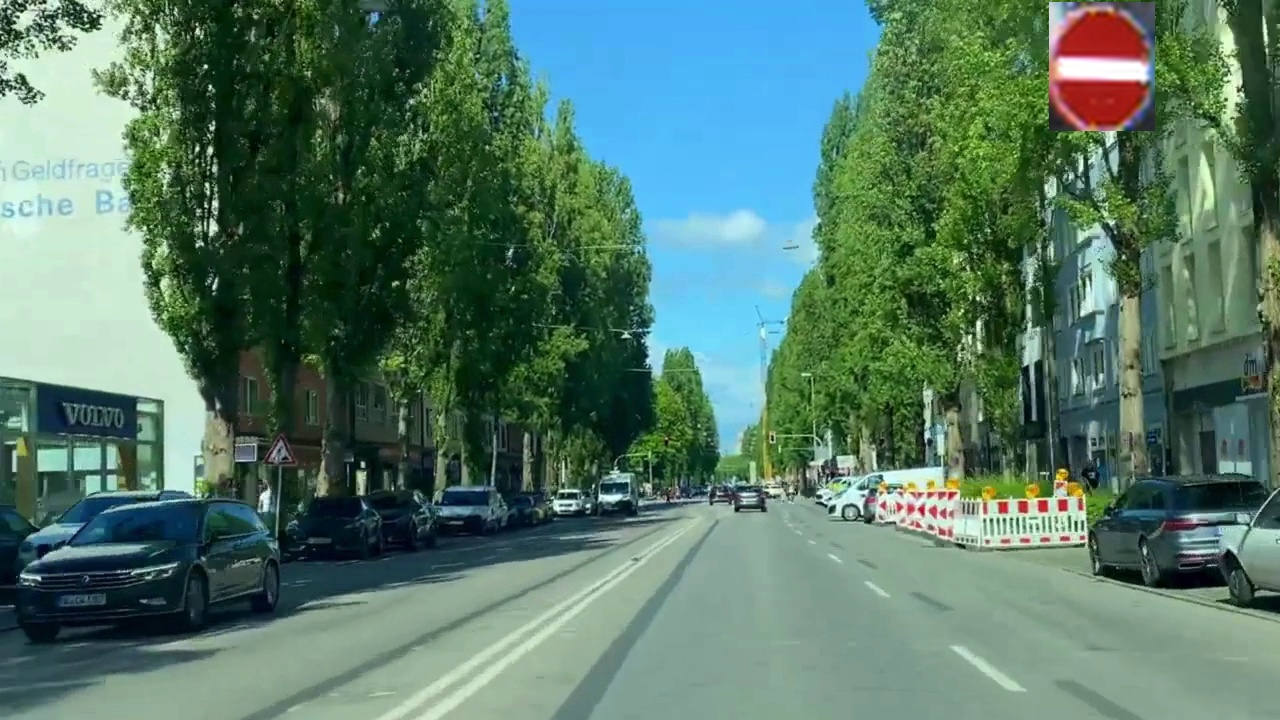No entry: (1049, 2, 1155, 131)
